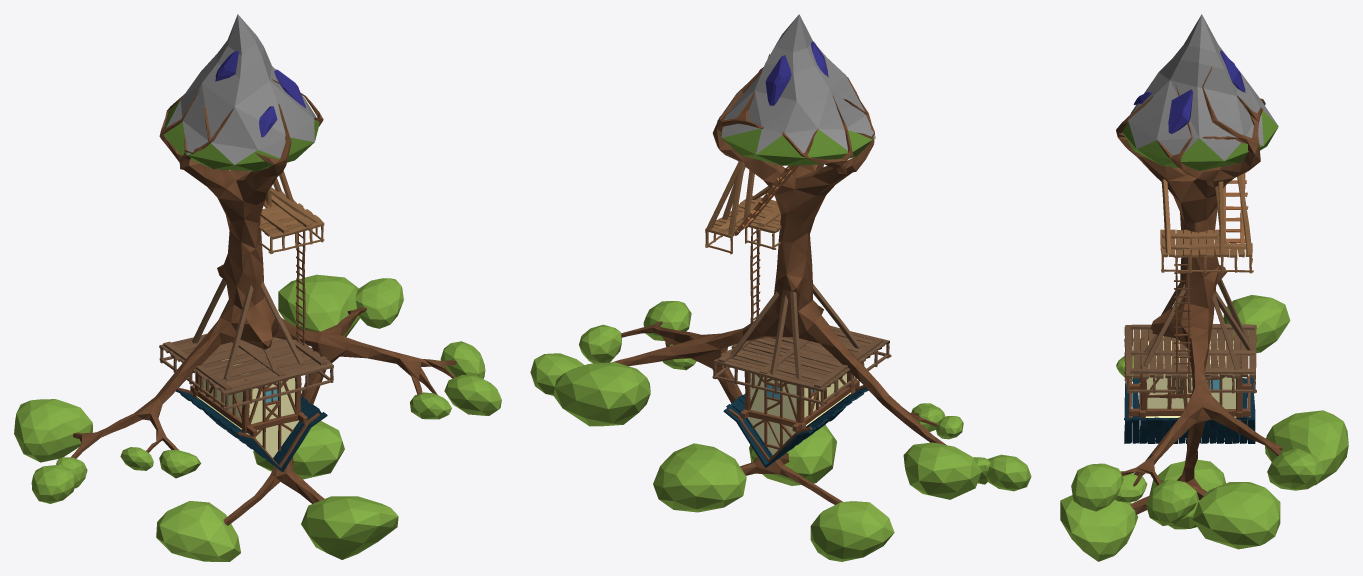
File: tree_house.glb
The picture shows the model from 3 angles, left to right: view 1: azimuth 30°, elevation 25°; view 2: azimuth 150°, elevation 25°; view 3: azimuth 270°, elevation 25°; orthographic projection. The views are drawn at different scales.
Parts seen in each view (by area): view 1: node_id52, node_id12, node_id56, node_id36, node_id28, node_id40, node_id8, node_id32, node_id24, node_id44, node_id20; view 2: node_id52, node_id12, node_id56, node_id36, node_id28, node_id40, node_id8, node_id24, node_id32, node_id44, node_id16, node_id20; view 3: node_id52, node_id12, node_id56, node_id36, node_id40, node_id32, node_id8, node_id28, node_id24, node_id44, node_id20, node_id16.
Part boxes in pixels (x1,y1,x2,y2): node_id52: (14,274,501,561); node_id12: (70,79,456,525); node_id56: (166,14,318,164); node_id36: (159,279,333,410); node_id28: (178,372,319,467); node_id40: (259,171,324,253); node_id8: (163,100,319,171); node_id32: (176,389,327,471); node_id24: (197,359,298,457); node_id44: (215,51,305,137); node_id20: (295,231,305,345); node_id52: (530,301,1031,561); node_id12: (613,54,946,504); node_id56: (717,14,875,154); node_id36: (712,284,891,406); node_id28: (728,339,865,461); node_id40: (705,160,781,254); node_id8: (717,121,875,165); node_id24: (747,373,851,454); node_id32: (723,387,868,467); node_id44: (759,41,828,105); node_id16: (734,165,798,235); node_id20: (750,228,760,322); node_id52: (1060,295,1348,561); node_id12: (1116,66,1282,514); node_id56: (1128,14,1277,160); node_id36: (1124,279,1256,393); node_id40: (1160,174,1253,273); node_id32: (1124,377,1255,443); node_id8: (1122,110,1278,170); node_id28: (1128,338,1251,440); node_id24: (1145,340,1236,417); node_id44: (1133,50,1245,133); node_id20: (1174,250,1191,392); node_id16: (1219,172,1248,243).
Bounding box in the file's own units: 0.4486 × 0.512 × 0.2545.
Materials: 14 (14 with a texture image).
